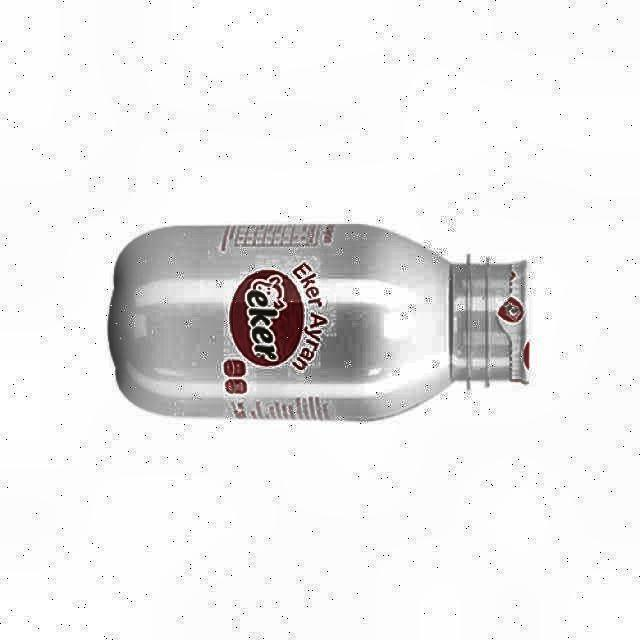plastic: (108, 224, 527, 421)
